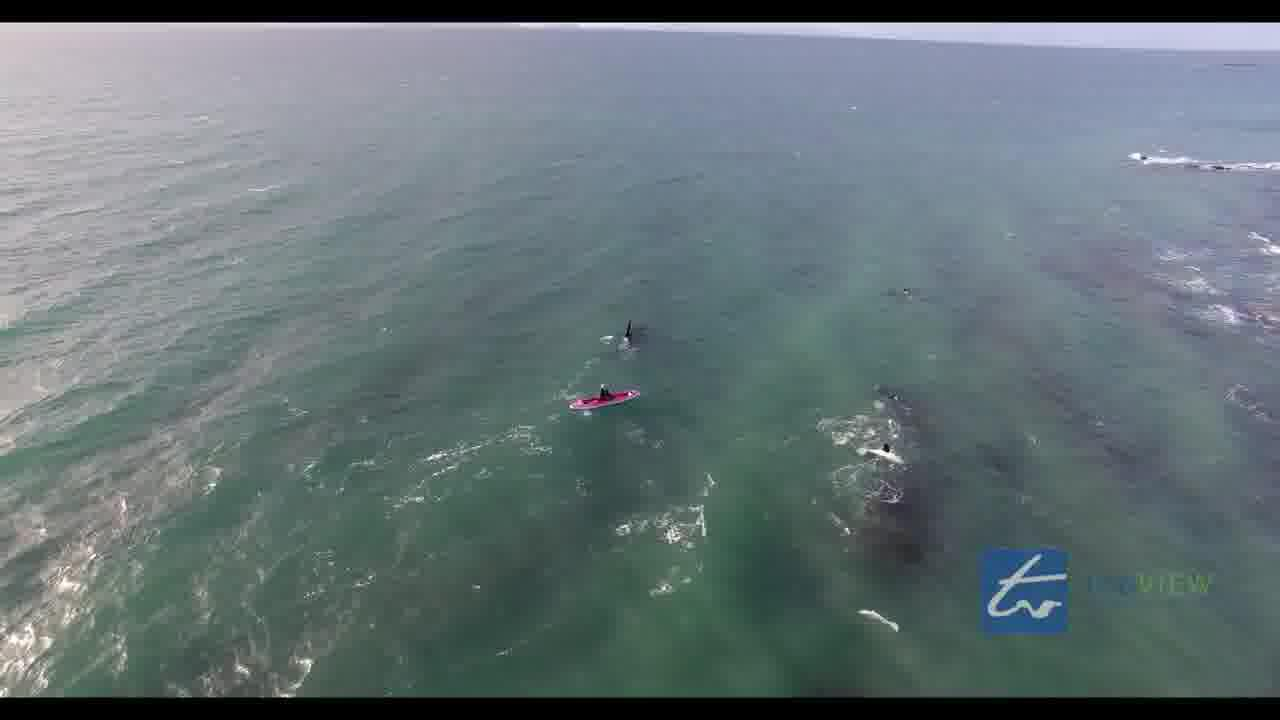swimmer: (615, 315, 648, 356), (592, 376, 613, 407)
